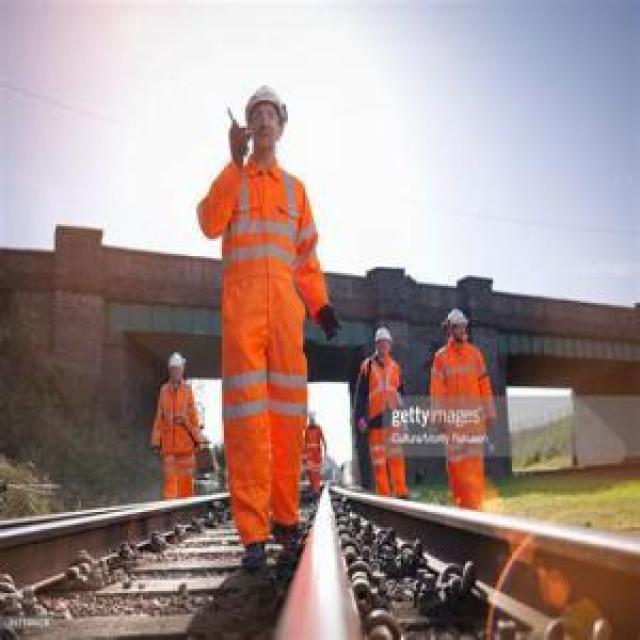rail: (241, 482, 639, 640), (1, 497, 165, 616)
